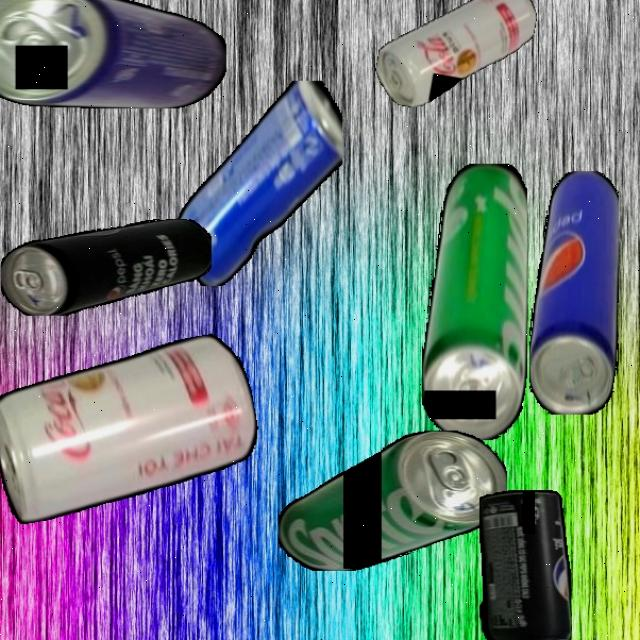debris: (0, 330, 267, 526), (175, 80, 342, 286), (278, 430, 507, 571), (421, 163, 527, 440), (0, 0, 226, 108), (528, 170, 619, 415), (371, 0, 540, 125), (1, 218, 212, 316), (478, 490, 571, 640)
